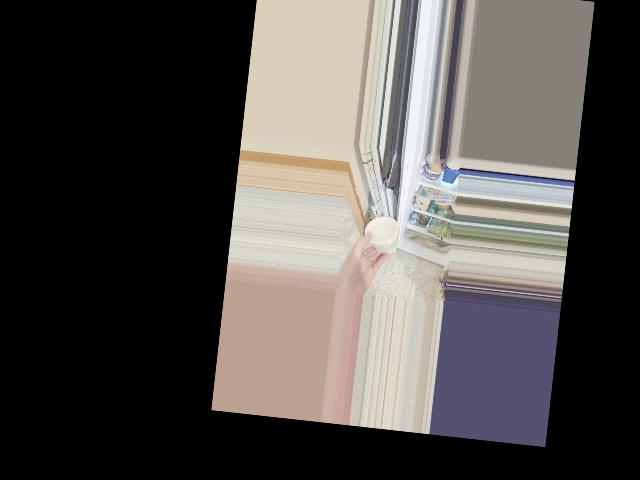cotage: (366, 215, 398, 252)
